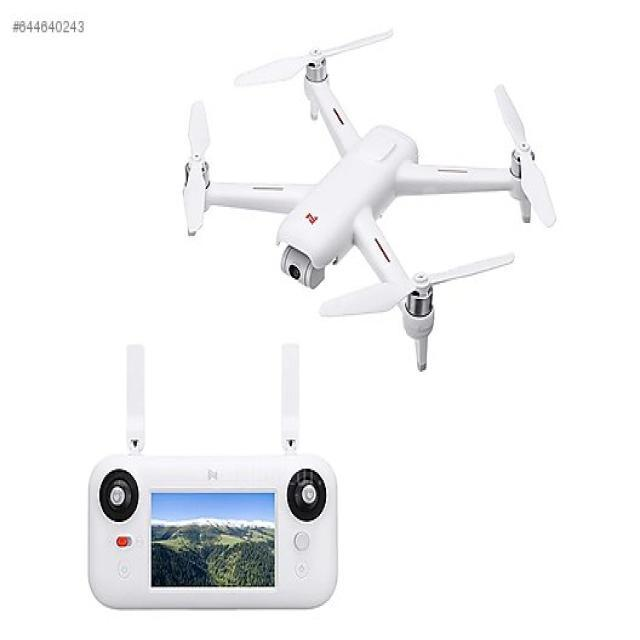drone: (149, 37, 573, 378)
